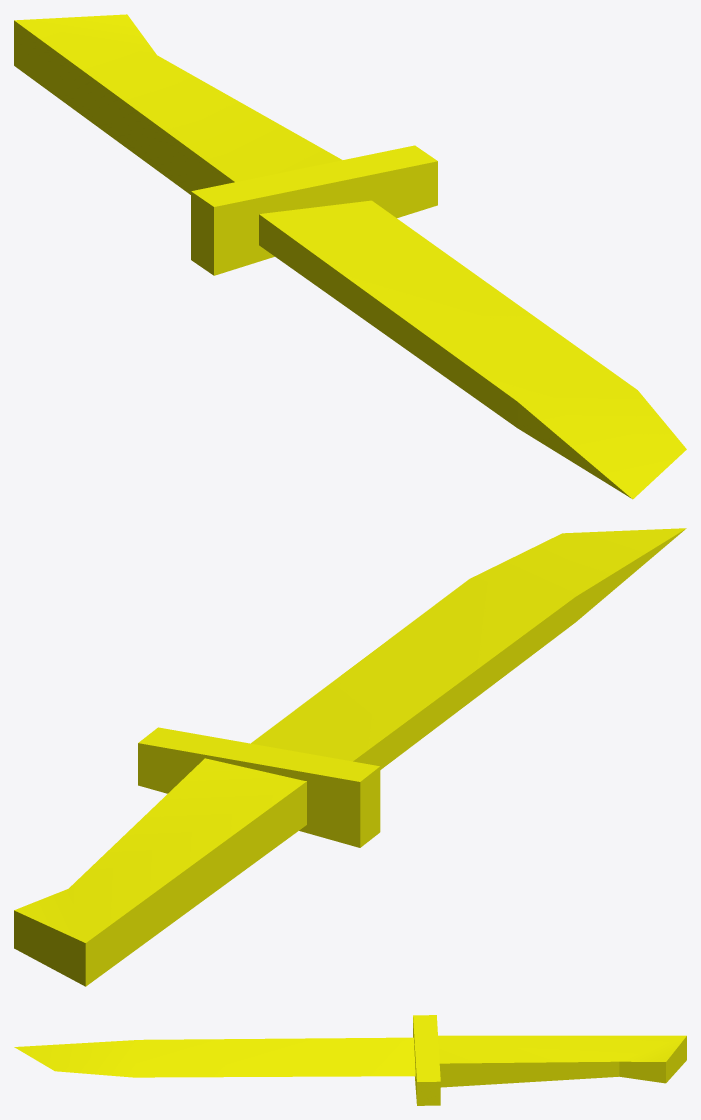
The model's file is weapon_knife_japan.glb.
The picture shows the model from 3 angles, top to bottom: view 1: azimuth 30°, elevation 25°; view 2: azimuth 150°, elevation 25°; view 3: azimuth 270°, elevation 25°; orthographic projection. The views are drawn at different scales.
Visible parts, largest first — view 1: weapon_knife_japan; view 2: weapon_knife_japan; view 3: weapon_knife_japan.
Boxes of the visible parts, box(x1,y1,x2,y2) form: weapon_knife_japan: box(14, 14, 686, 499); weapon_knife_japan: box(14, 528, 686, 986); weapon_knife_japan: box(14, 1015, 686, 1105).
Bounding box in the file's own units: 0.1897 × 0.0545 × 0.8943.
Materials: 1 (1 with a texture image).
